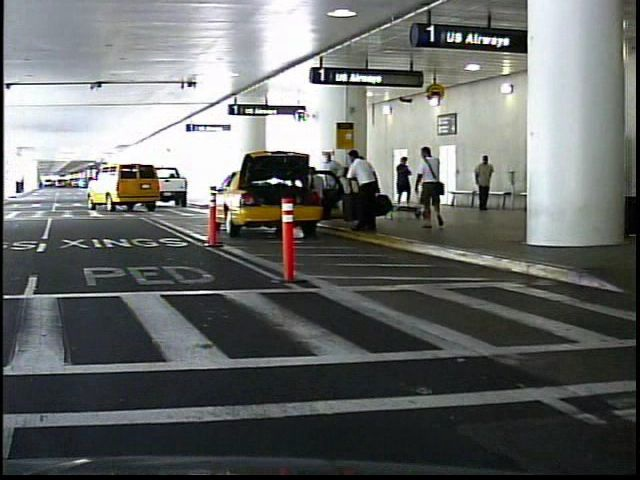person: (412, 147, 448, 232), (466, 151, 491, 214)
